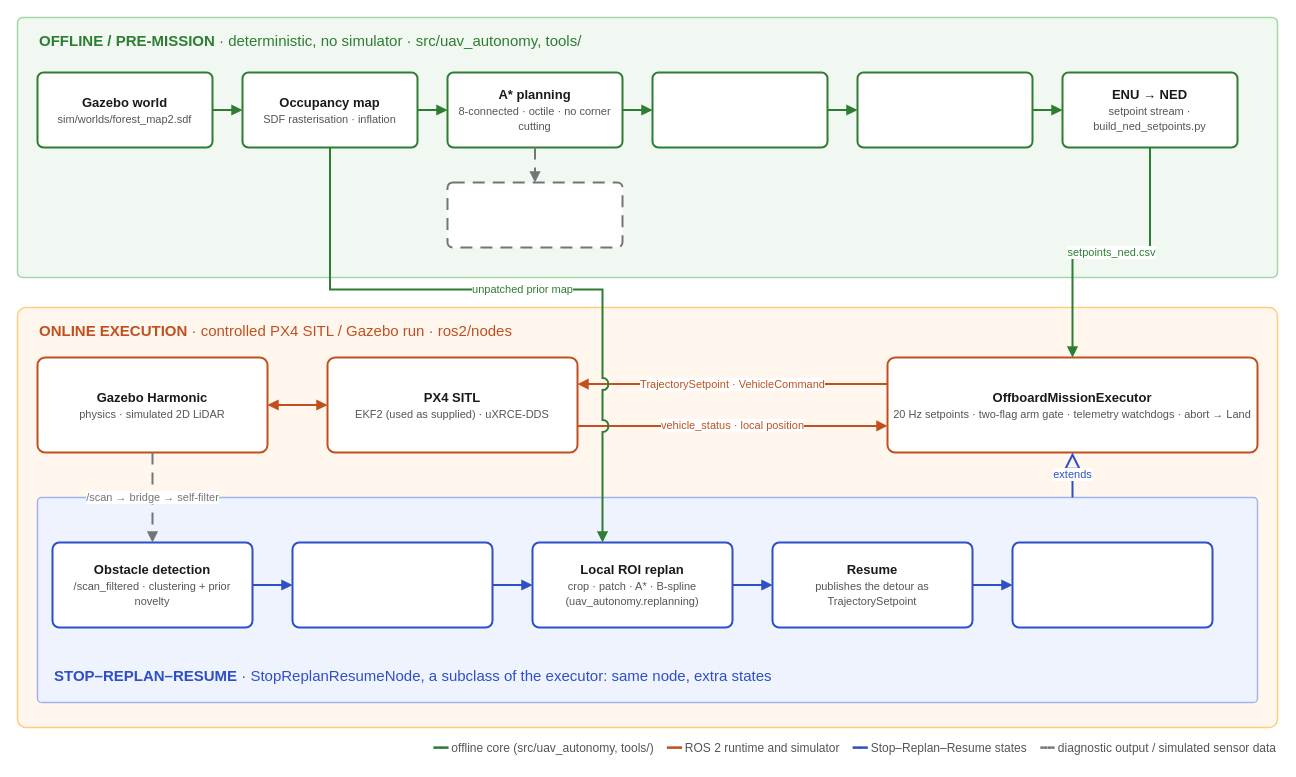
Some shapes in this 1296 by 777 pixel diagram are drawn without their labels. Here are the shapes that lost their labels. From the top down, the centre of each, then its label:
At point (739, 109): "B-spline refinement fitted to the A* path · clearance-validated cascade".
At point (944, 109): "Mission reference published input · stitcher not released".
At point (534, 214): "Line-of-sight reduction diagnostic only · not used downstream".
At point (392, 584): "Stop and hover stability gate".
At point (1112, 584): "Rejoin remaps the mission cursor, hands back to MISSION".
